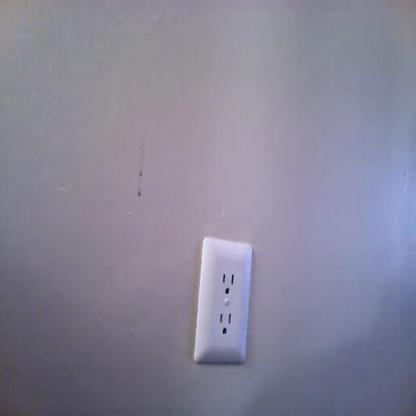OUTLET: (198, 239, 250, 362)
